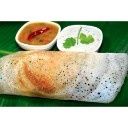dosa: (1, 49, 124, 103)
